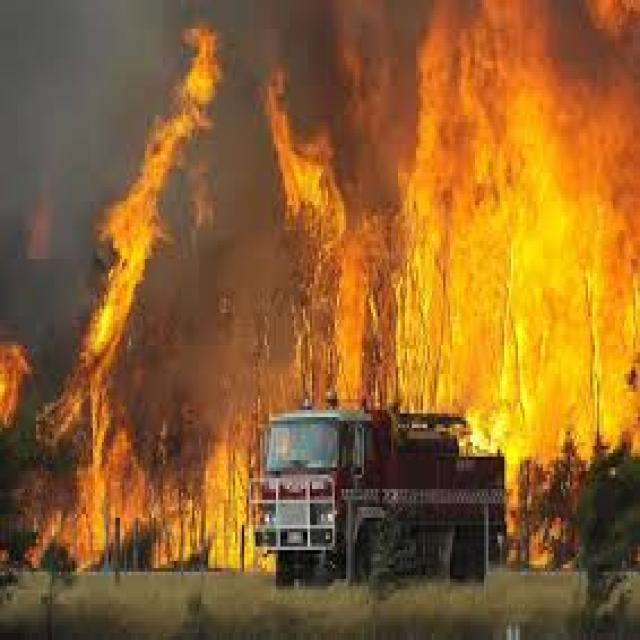Fire: (262, 32, 640, 467), (4, 34, 222, 636)
Smoke: (4, 0, 441, 155)
